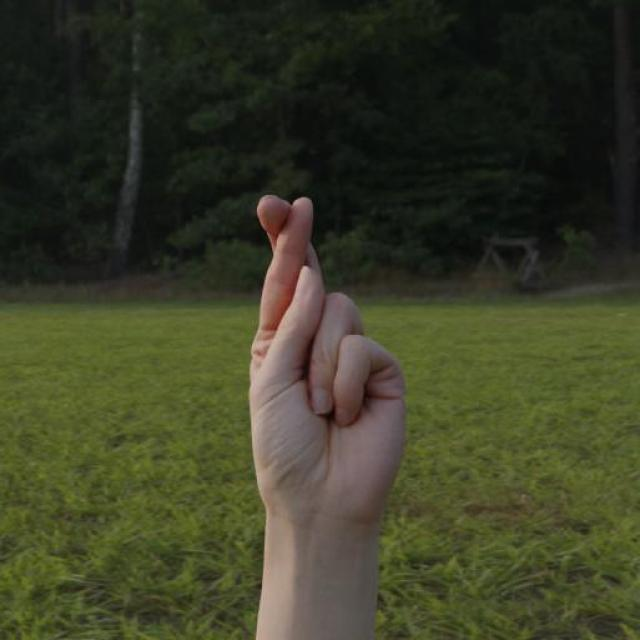R: (249, 193, 410, 526)
